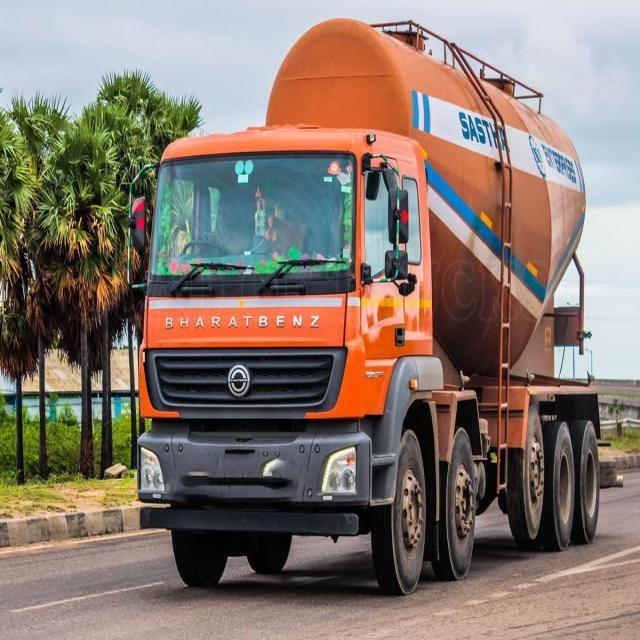truck: (132, 11, 598, 598)
